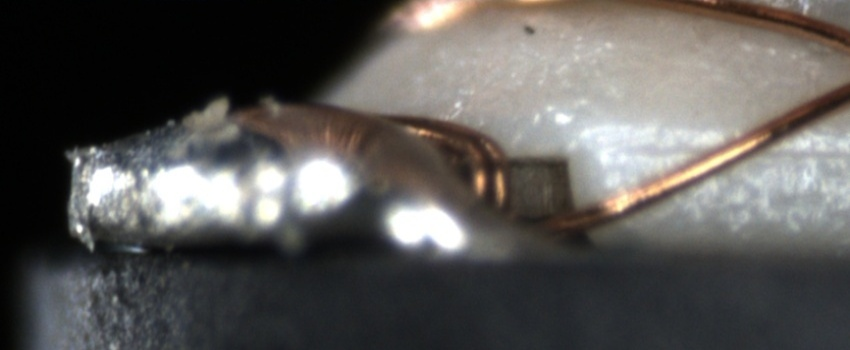DL: (622, 118, 849, 182)
TE: (357, 104, 524, 223)
